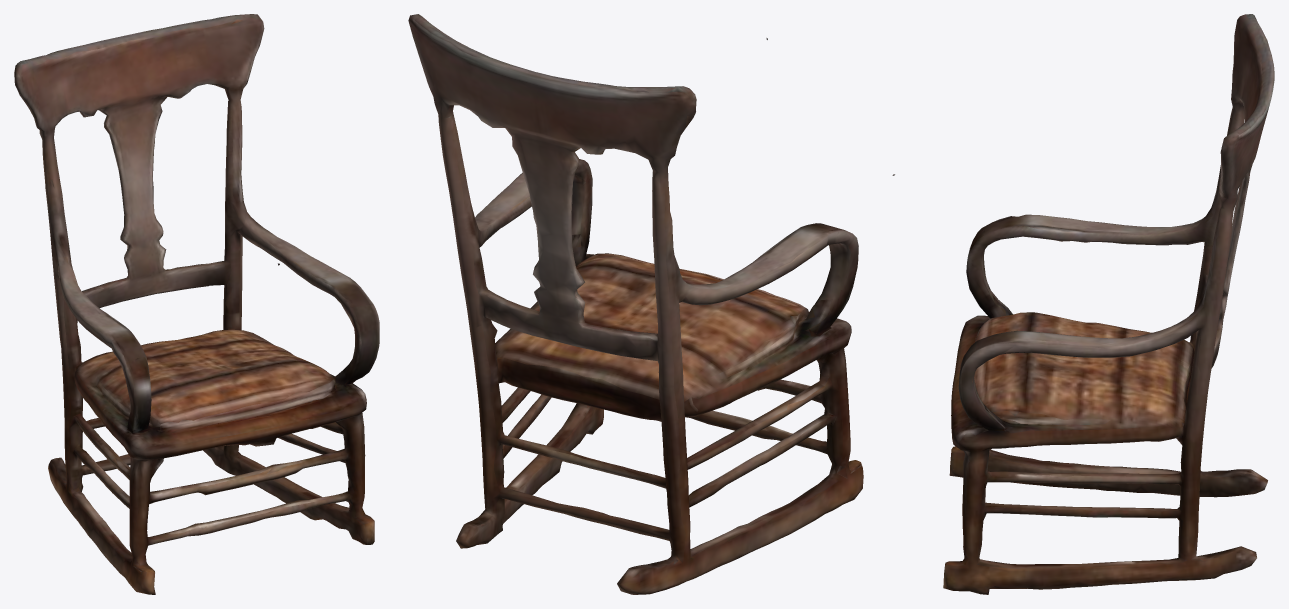
The model's file is rocking_chair.glb.
The picture shows the model from 3 angles, left to right: view 1: azimuth 30°, elevation 25°; view 2: azimuth 150°, elevation 25°; view 3: azimuth 270°, elevation 25°; orthographic projection. The views are drawn at different scales.
Parts seen in each view (by area): view 1: model; view 2: model; view 3: model.
Part boxes in pixels (x1,y1,x2,y2): model: (14, 14, 379, 594); model: (408, 14, 863, 594); model: (892, 14, 1274, 594).
Size of the model in its own units: 1.22 by 2 by 1.48.
Materials: 1 (1 with a texture image).
